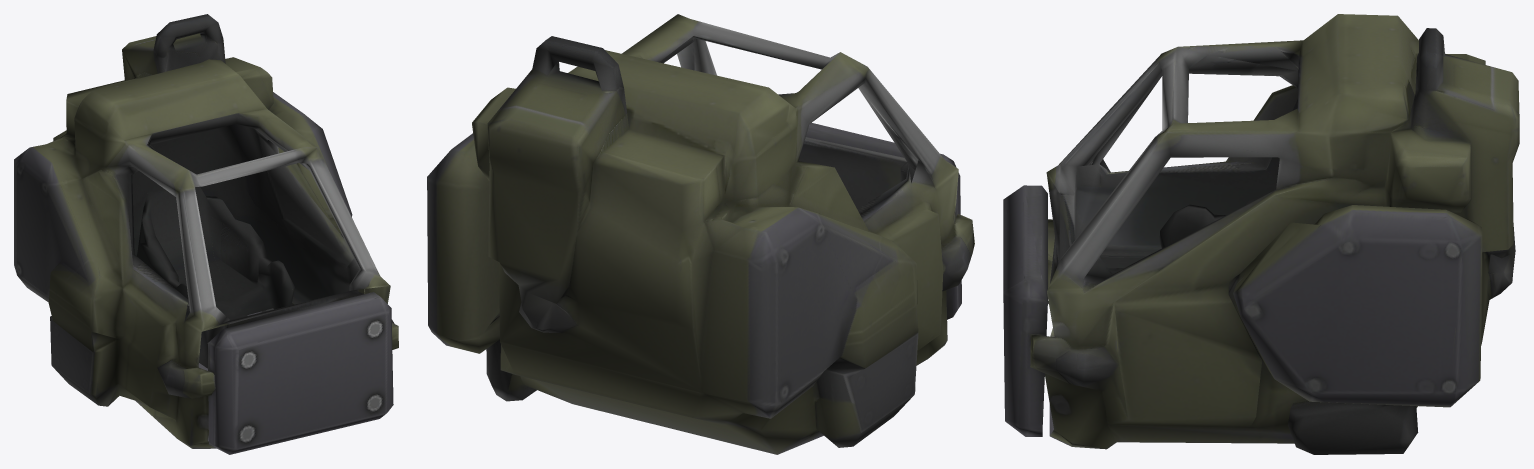
Rendered from Mech_Cockpit1.glb.
3 views of the same model, side by side, from view 1: azimuth 30°, elevation 25°; view 2: azimuth 150°, elevation 25°; view 3: azimuth 270°, elevation 25° (orthographic). The views are drawn at different scales.
Size of the model in its own units: 0.7534 by 0.7793 by 0.9395.
Materials: 1 (1 with a texture image).
